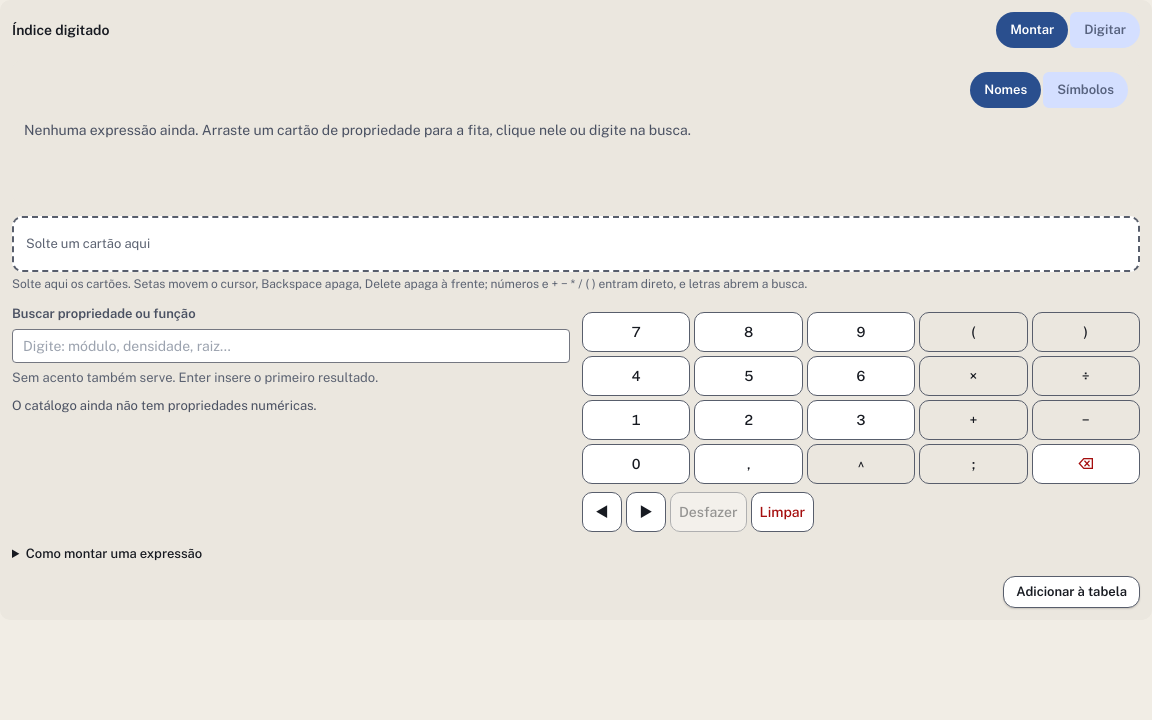
Test case: CustomIndexForm: índice digitado no comparador (D-153) › falha que não é do servidor também é escrita
The image size is (1152, 720).
Step 1. Click the button "Digitar" → (1105, 30), box [1070, 12, 1140, 48]
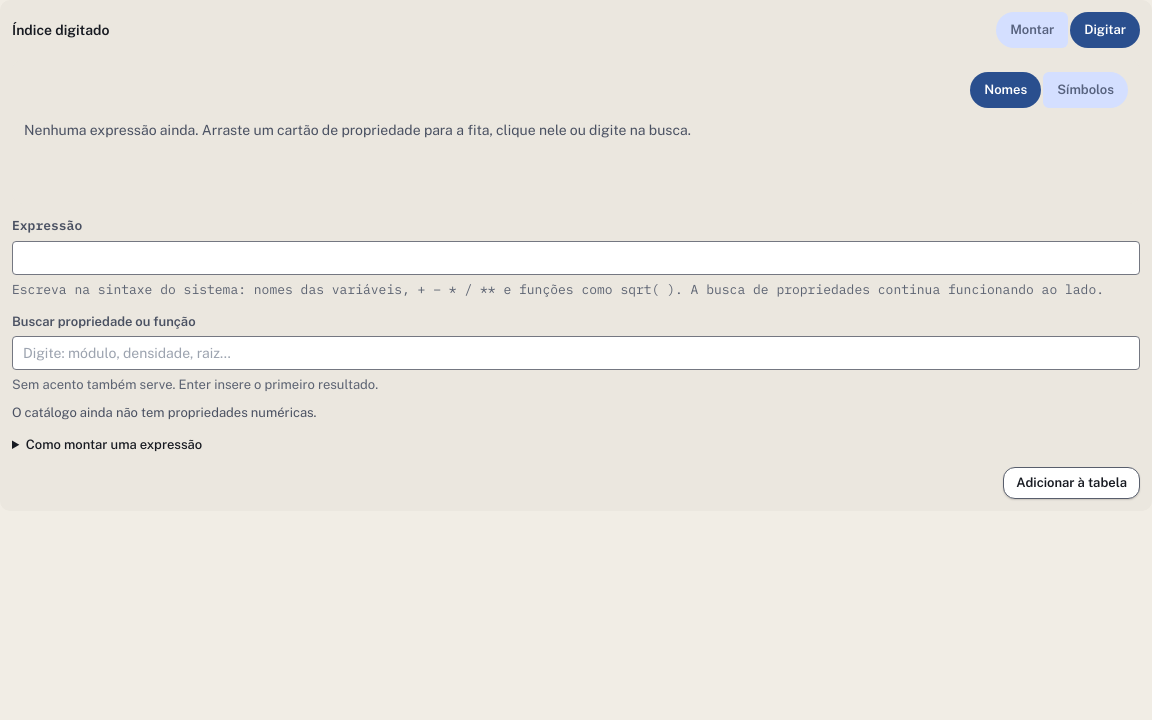
Step 2. Type "densidade * 2" into the field labelled "Expressão" → (576, 258), box [12, 240, 1140, 274]
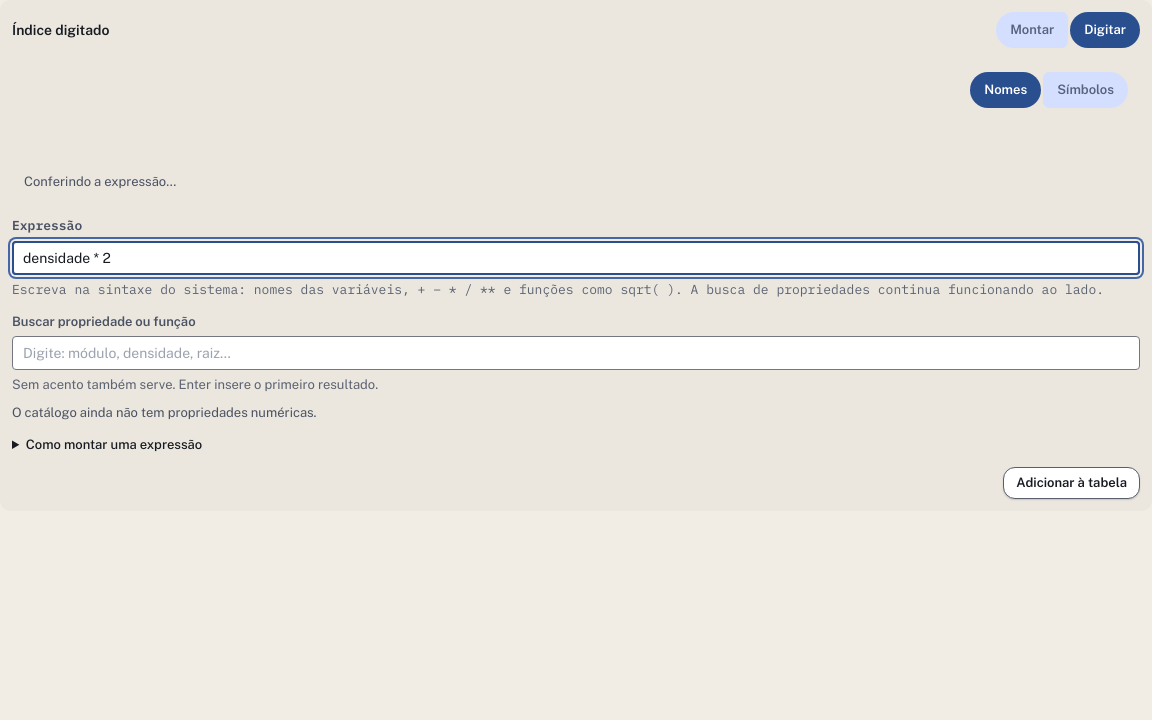
Step 3. Click the button "Adicionar à tabela" → (1072, 483), box [1003, 467, 1140, 499]
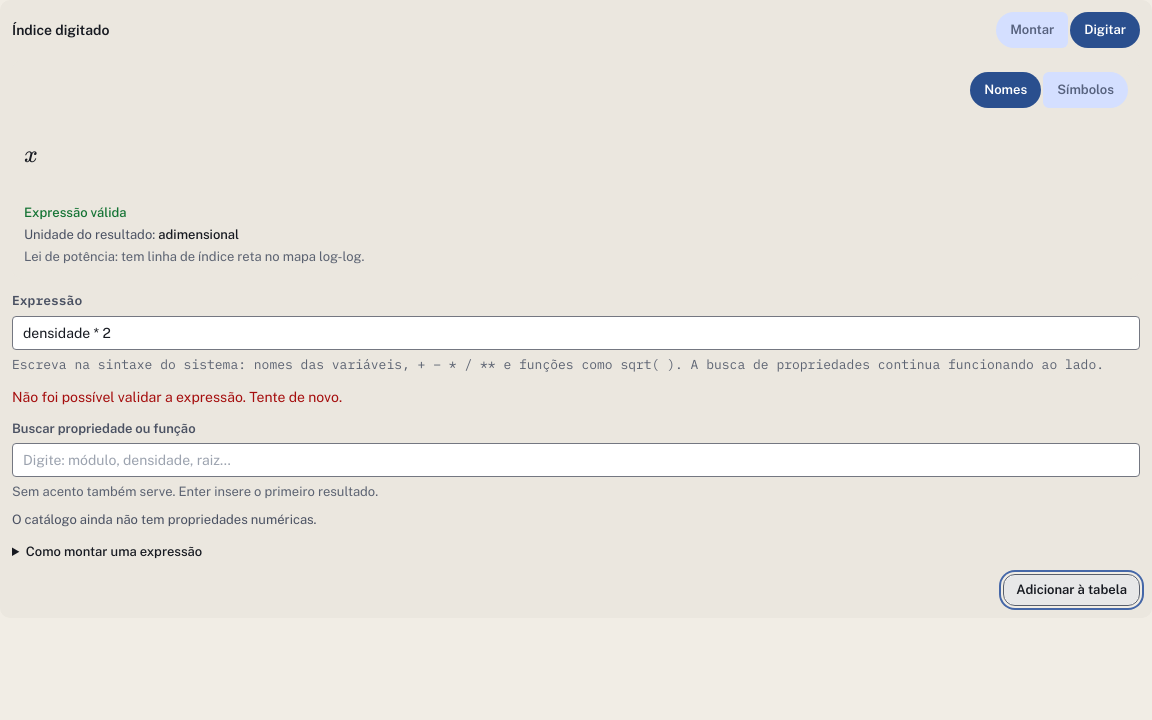
Check: the message reads "Não foi possível validar a expressão. Tente de novo.", box [12, 388, 342, 404]
